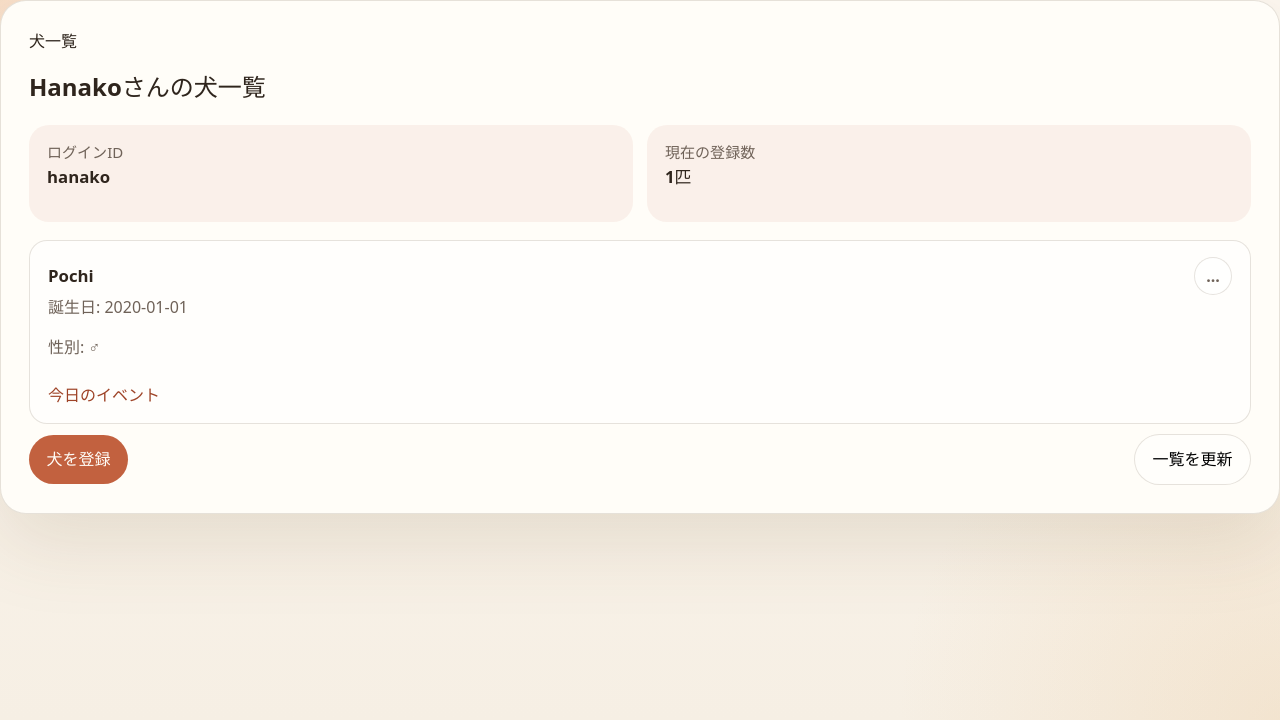
DogListView › 飼い主追加フォームで入力エラーがある場合は飼い主追加APIを呼ばない
The width and height of the screenshot is (1280, 720).
Click the button named "Pochiのメニュー". click: (1213,276)
box: [1194,256,1232,294]
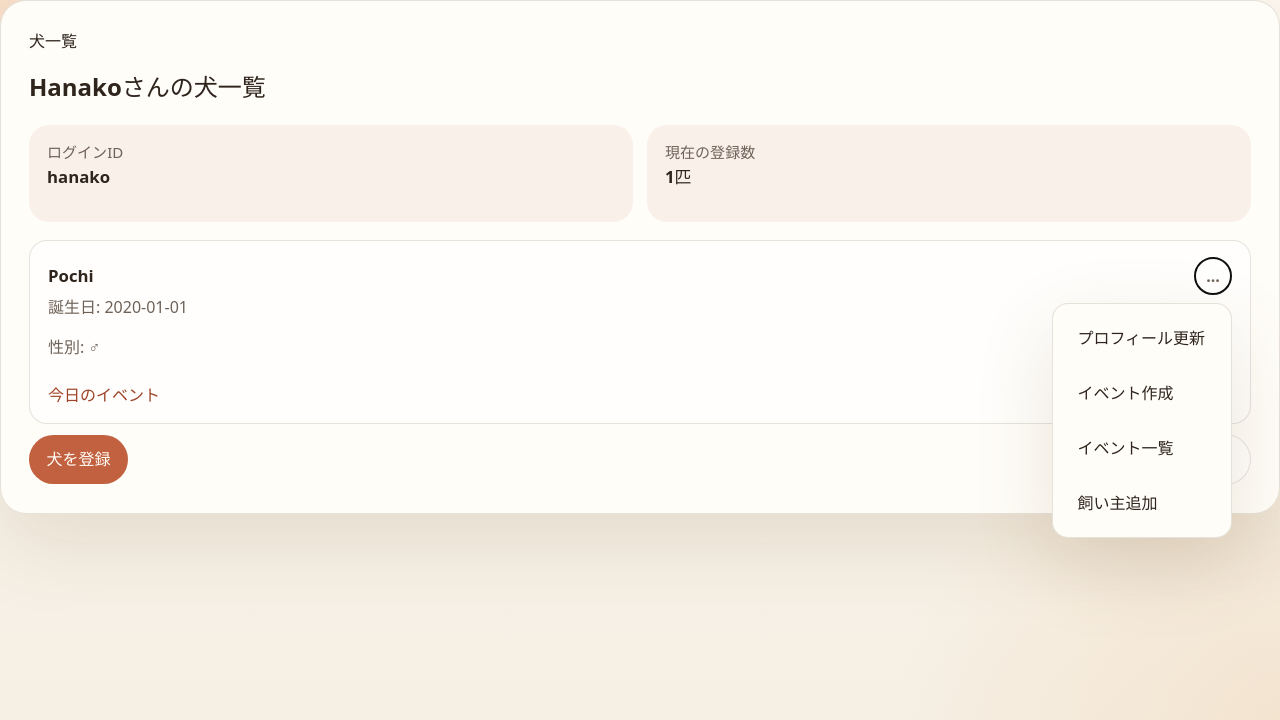
Click the menu item "飼い主追加". click: (1142,503)
box: [1063,478,1221,527]
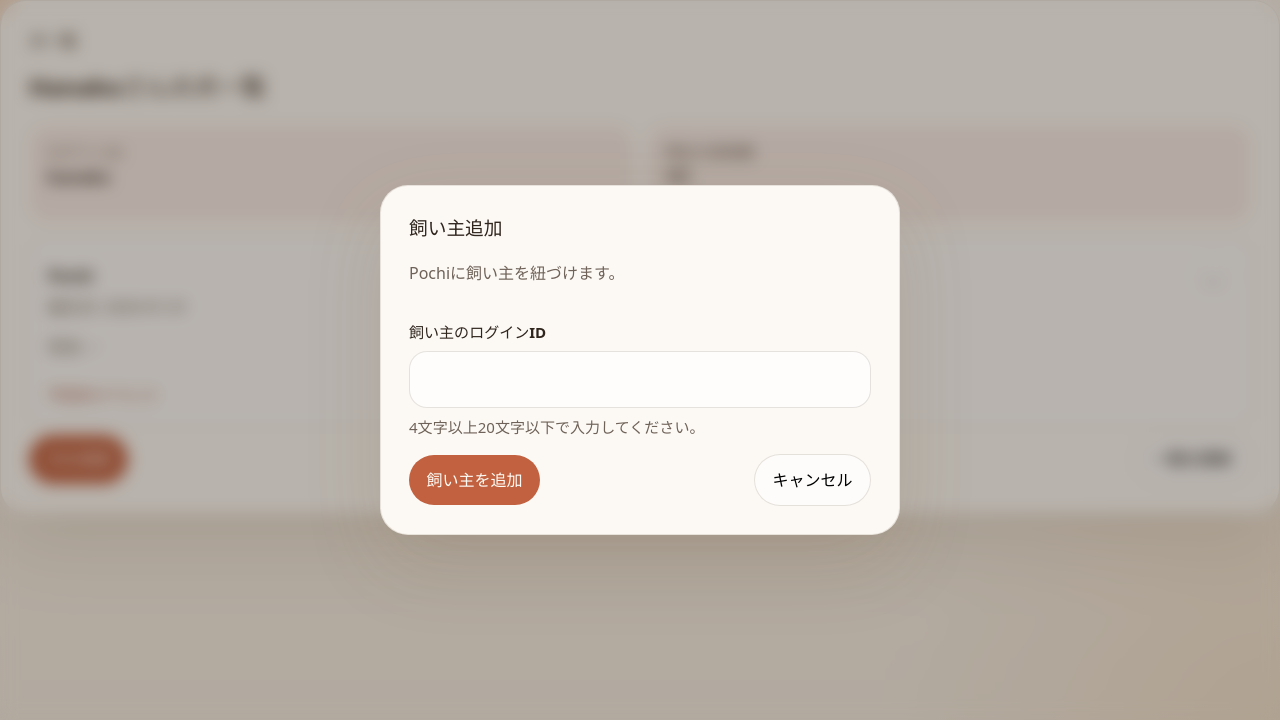
Click the button "飼い主を追加". click: (475,480)
box: [409,455,540,505]
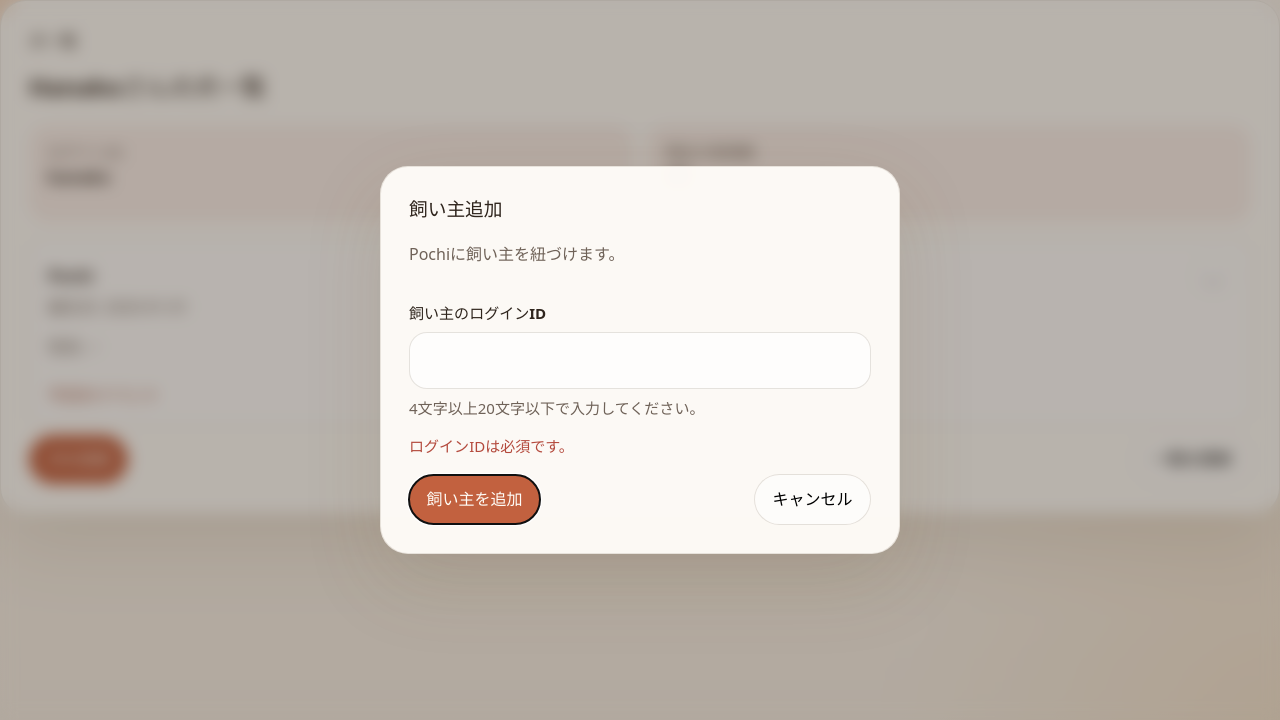
Result: the text "ログインIDは必須です。" is shown at [409,436,574,456]
